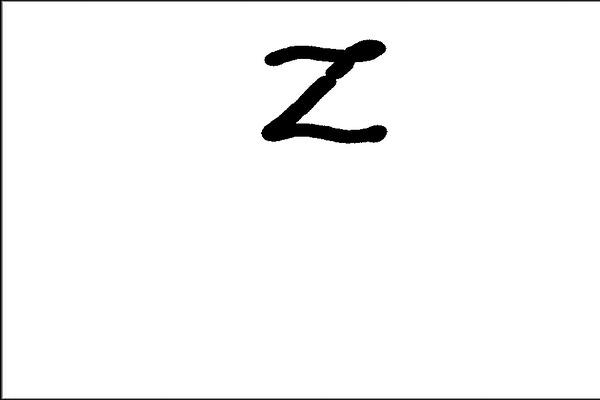Z: (249, 25, 398, 151)
